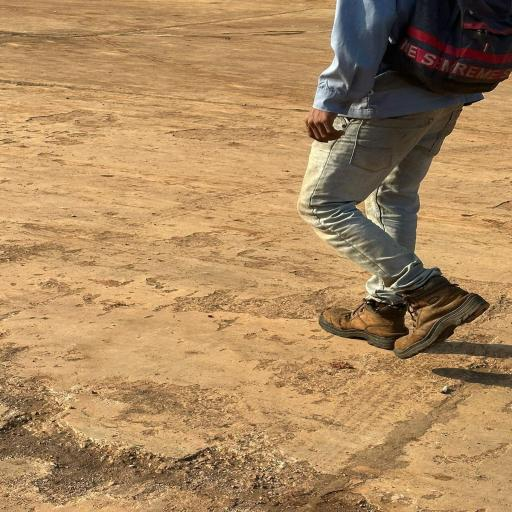safety_shoe: (384, 267, 490, 362), (313, 288, 412, 358)
